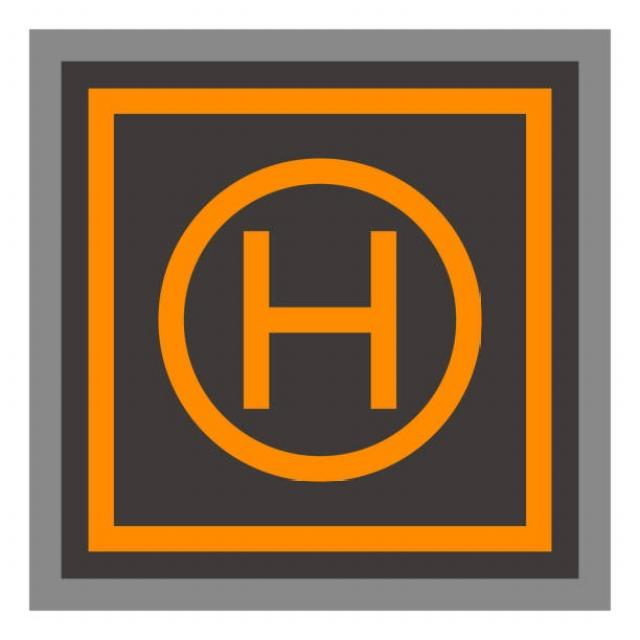helipad: (148, 148, 486, 490)
